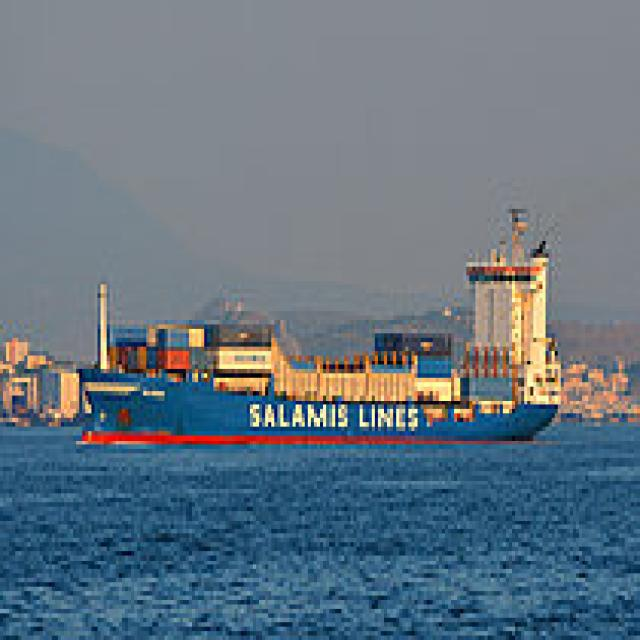Cargo: (70, 200, 561, 444)
